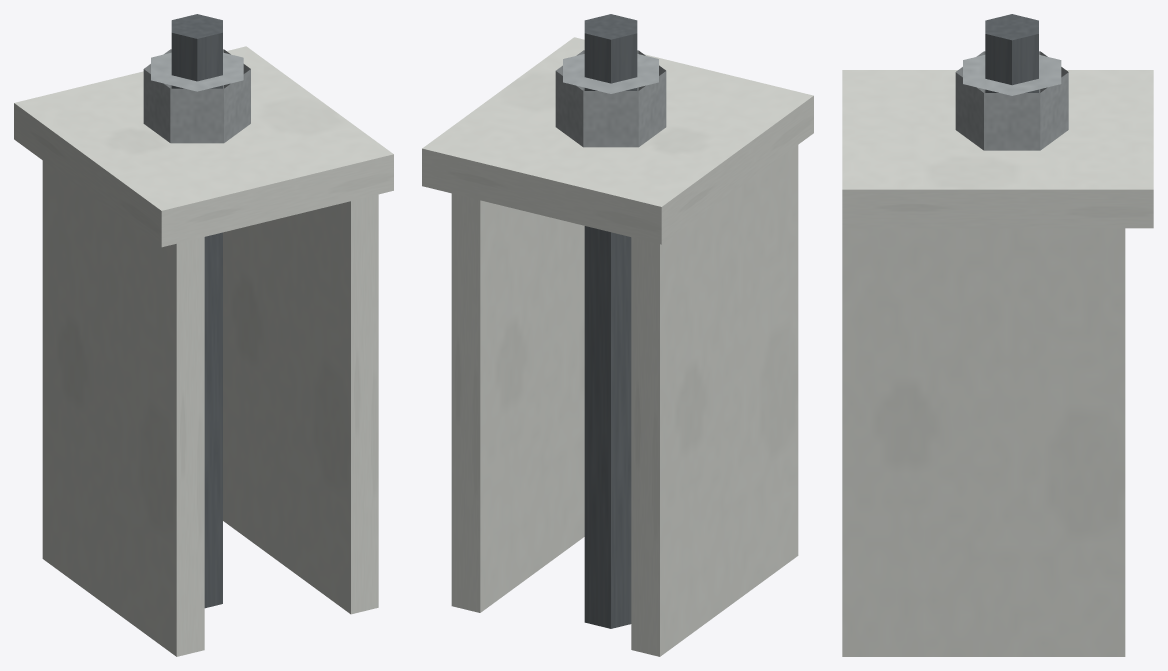
The model's file is body.obj.
3 renders of one model, left to right at view 1: azimuth 30°, elevation 25°; view 2: azimuth 150°, elevation 25°; view 3: azimuth 270°, elevation 25°, orthographic. The views are drawn at different scales.
Bounding box in the file's own units: 0.2 × 0.47 × 0.22.
